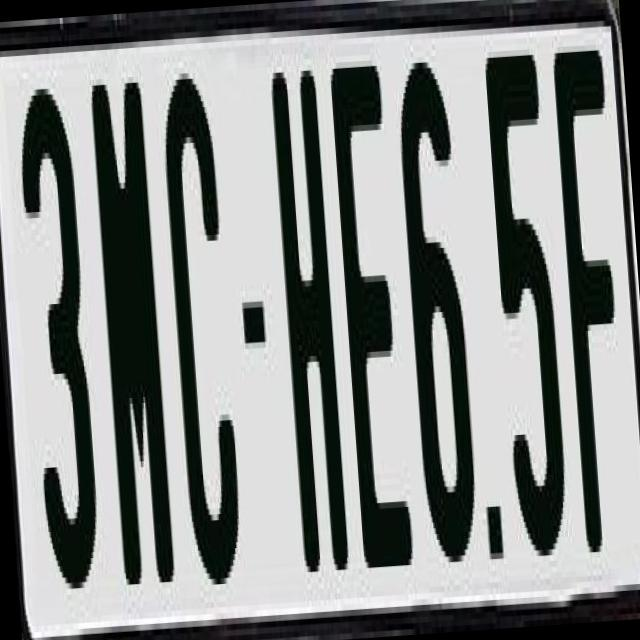3: (15, 69, 106, 601)
5: (481, 42, 572, 580)
6: (394, 54, 484, 586)
C: (156, 59, 250, 603)
E: (326, 53, 418, 557)
F: (548, 38, 629, 541)
H: (268, 64, 354, 572)
M: (88, 64, 176, 567)
